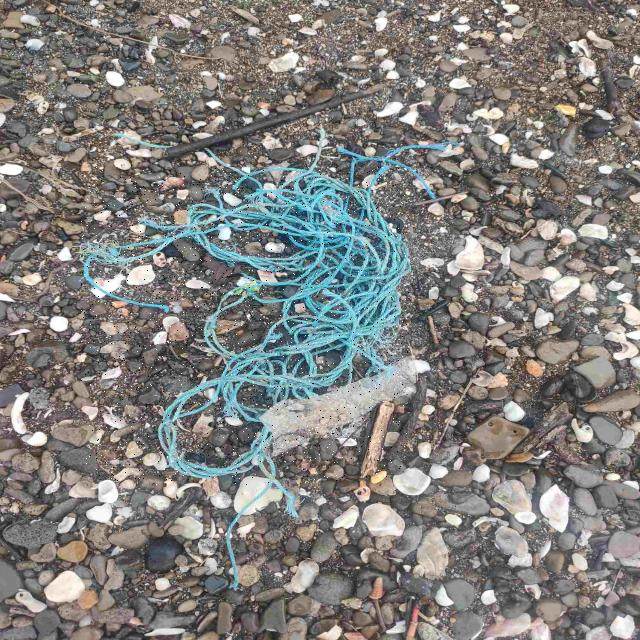plastic: (81, 168, 410, 485)
